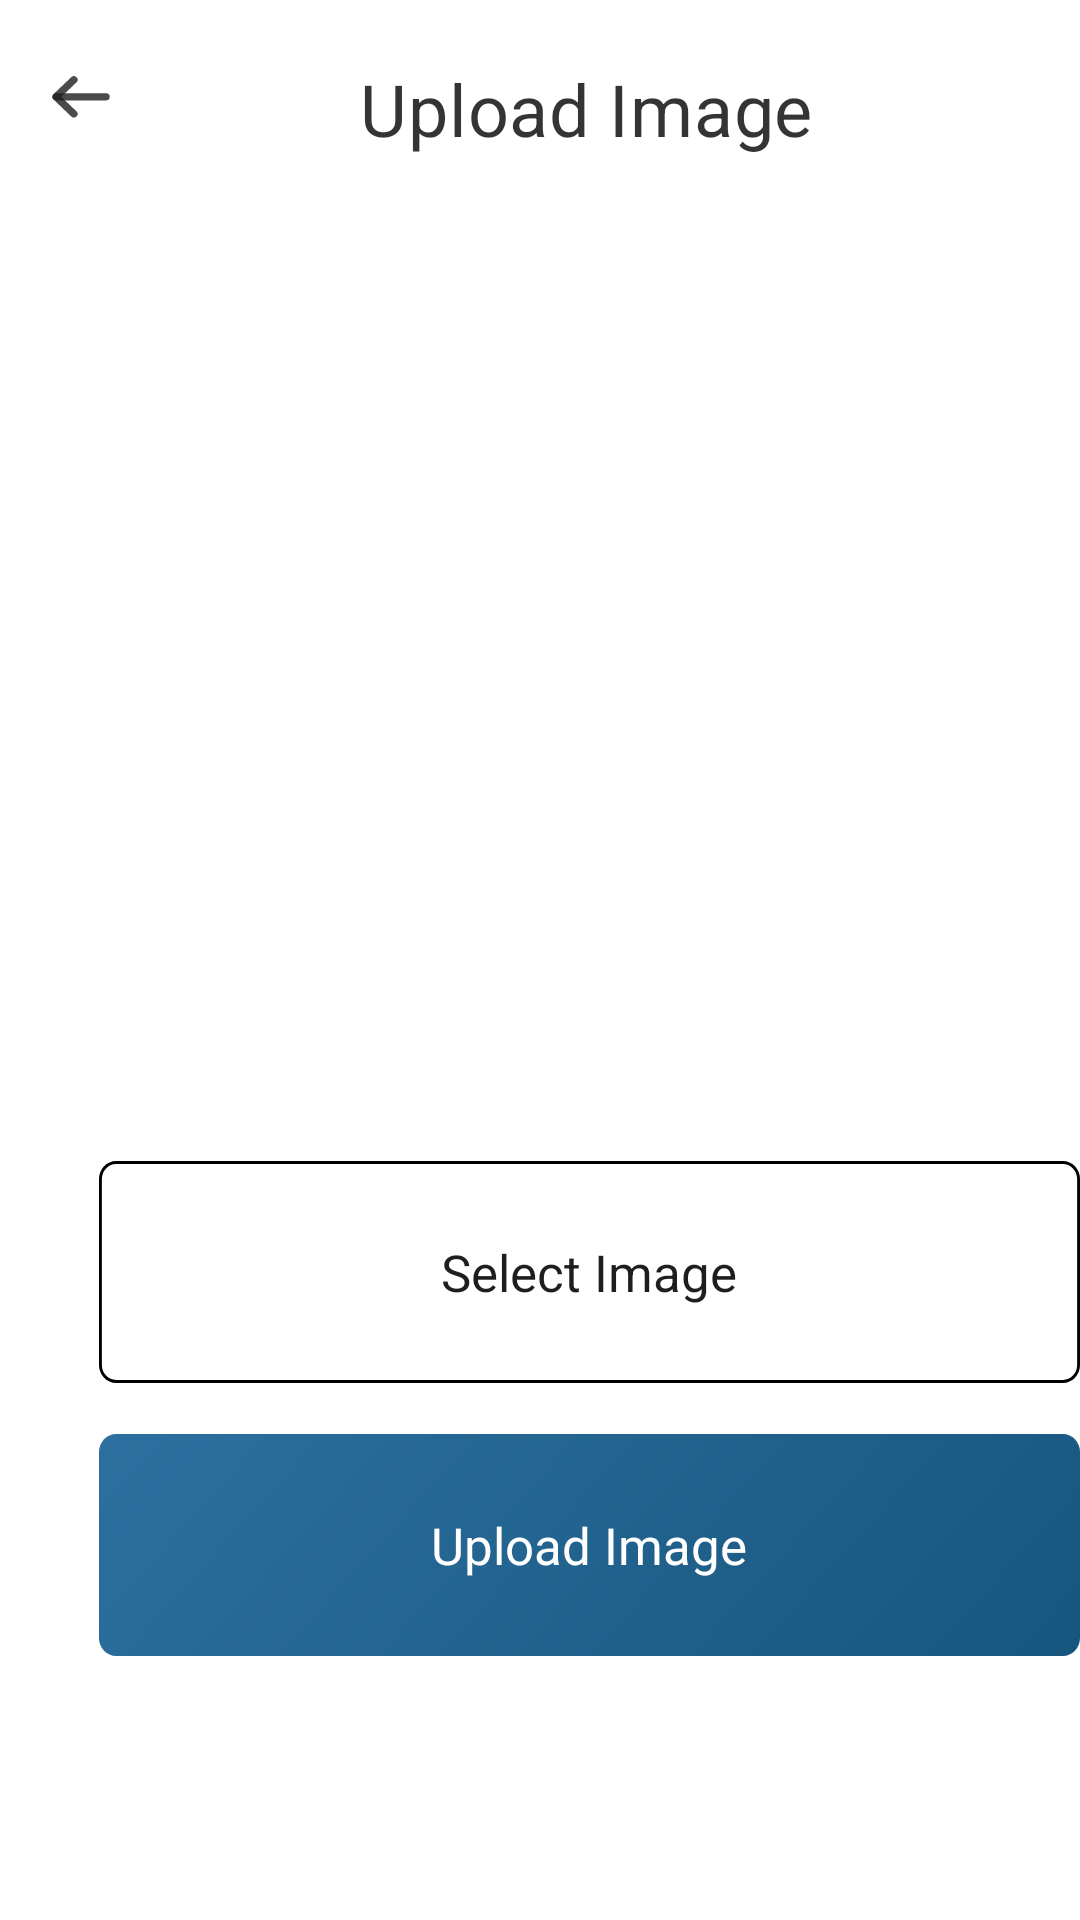

Icons on this 1080 x 1920 Android screen, each with the point to tap as (x,y):
arrow: (81,97)
